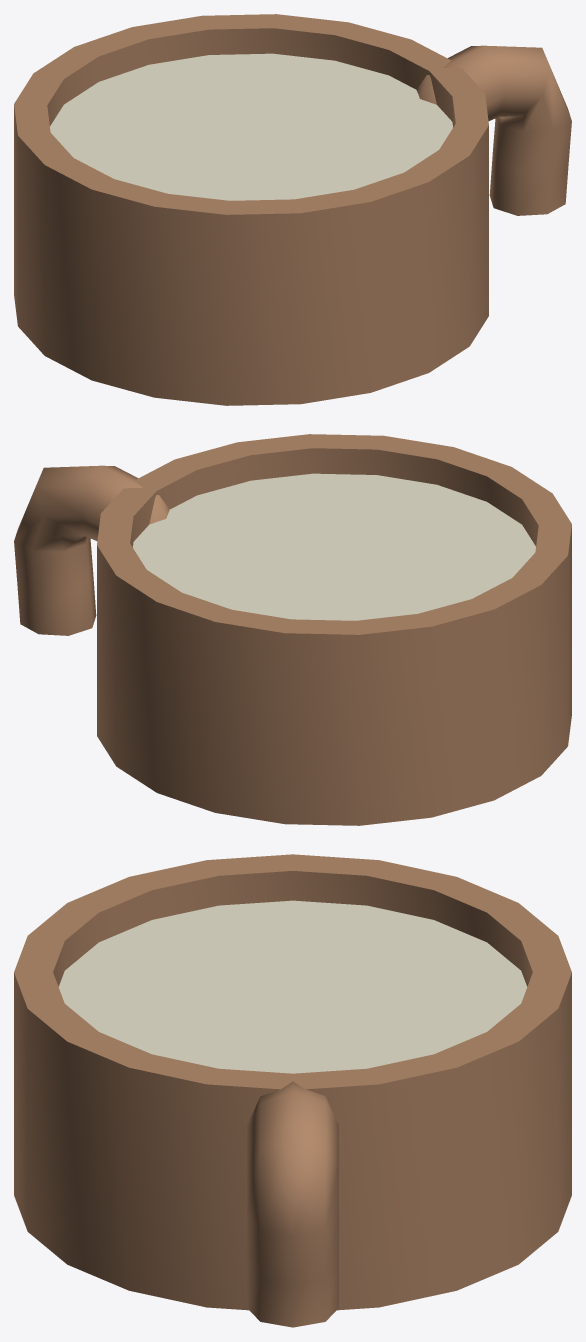
The model's file is survival-food-and-preservation-cooking-fat-pot-13a567c4__21766.glb.
3 renders of one model, top to bottom at view 1: azimuth 30°, elevation 25°; view 2: azimuth 150°, elevation 25°; view 3: azimuth 270°, elevation 25°, orthographic. The views are drawn at different scales.
Visible parts, largest first — view 1: cooking-fat-pot; view 2: cooking-fat-pot; view 3: cooking-fat-pot.
Boxes of the visible parts, bbox=[...] form: cooking-fat-pot: bbox=[14, 14, 571, 405]; cooking-fat-pot: bbox=[14, 434, 571, 825]; cooking-fat-pot: bbox=[14, 854, 571, 1327].
Size of the model in its own units: 0.2151 by 0.0796 by 0.17.
